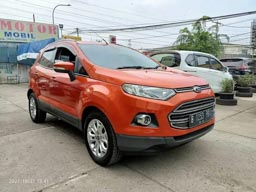plat: (191, 108, 215, 126)
